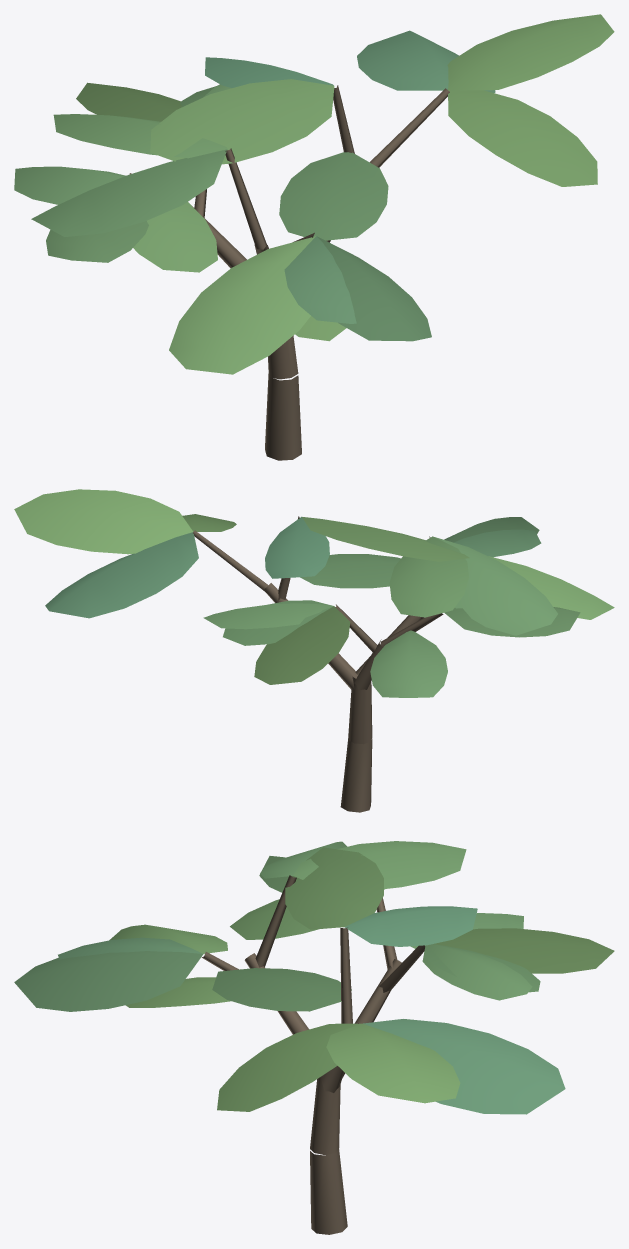
Rendered from tree-spreading.glb.
3 views of the same model, one above another, from view 1: azimuth 30°, elevation 25°; view 2: azimuth 150°, elevation 25°; view 3: azimuth 270°, elevation 25° (orthographic). The views are drawn at different scales.
Parts seen in each view (by area): view 1: tree-spreading; view 2: tree-spreading; view 3: tree-spreading.
Boxes of the visible parts, x1,y1,x2,y2 form: tree-spreading: [14, 14, 614, 460]; tree-spreading: [14, 489, 614, 812]; tree-spreading: [14, 841, 614, 1234].
Bounding box in the file's own units: 12.73 × 6.9 × 11.34.
